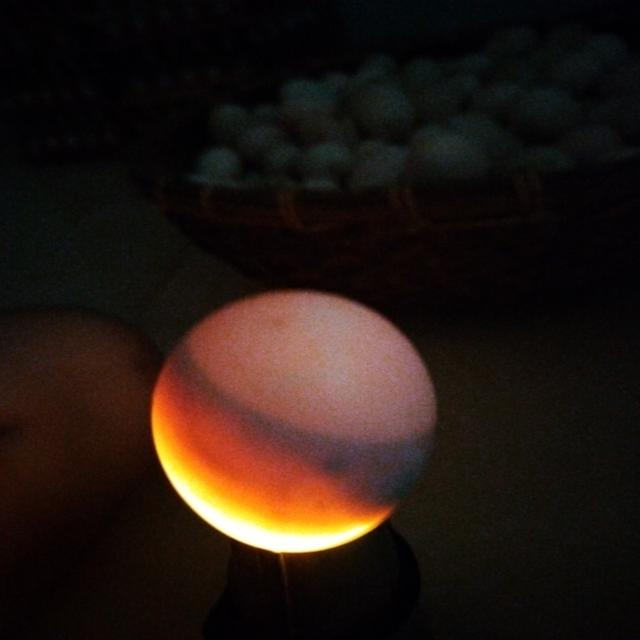Area Infectada: (168, 335, 438, 502)
